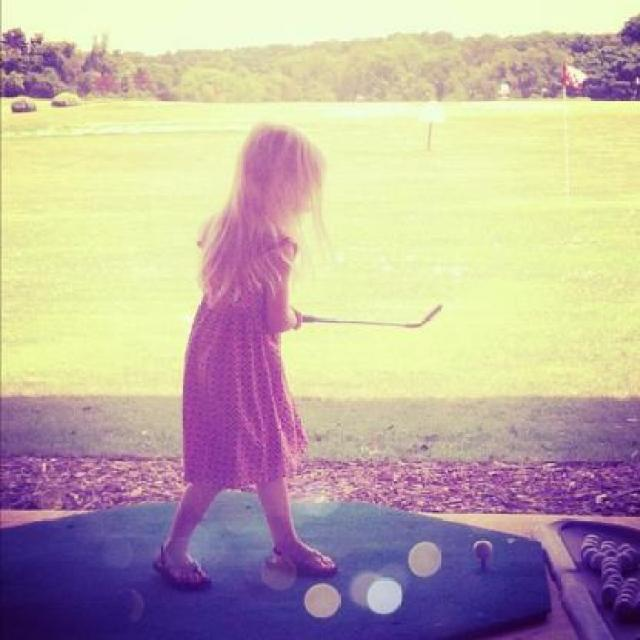club head: (406, 301, 446, 330)
